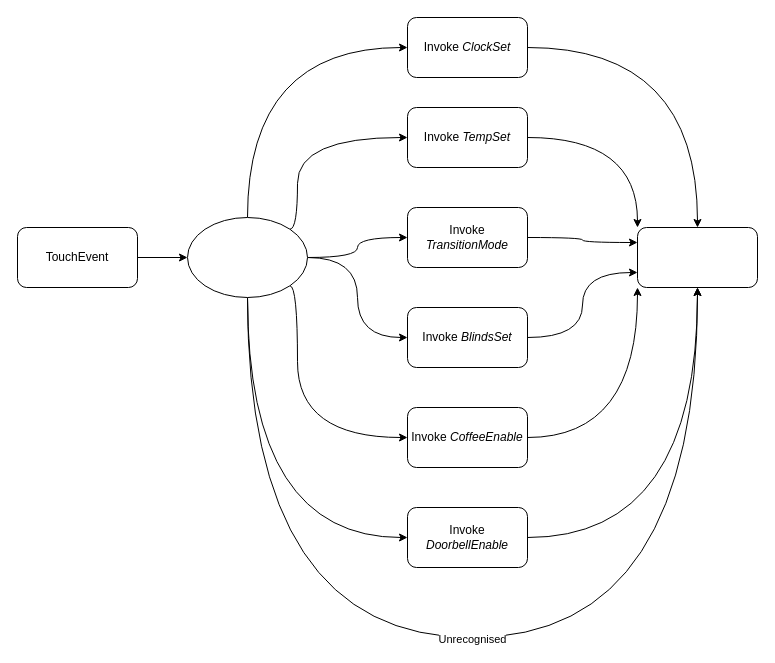
Some shapes in this 775 by 663 pixel diagram are drawn without their labels. The shapes that lost their labels are listed below. From the top down, each one's centre as x and y in pixels, then its label:
At point (247, 257): "Decode".
At point (697, 257): "Idle".
